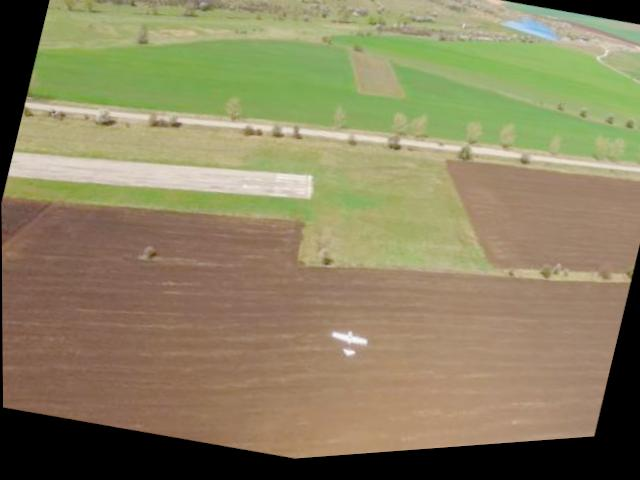uav: (322, 322, 376, 376)
